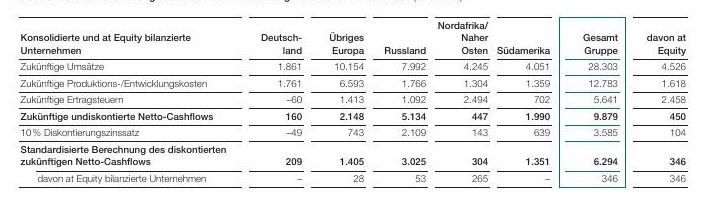table: (0, 0, 707, 202)
